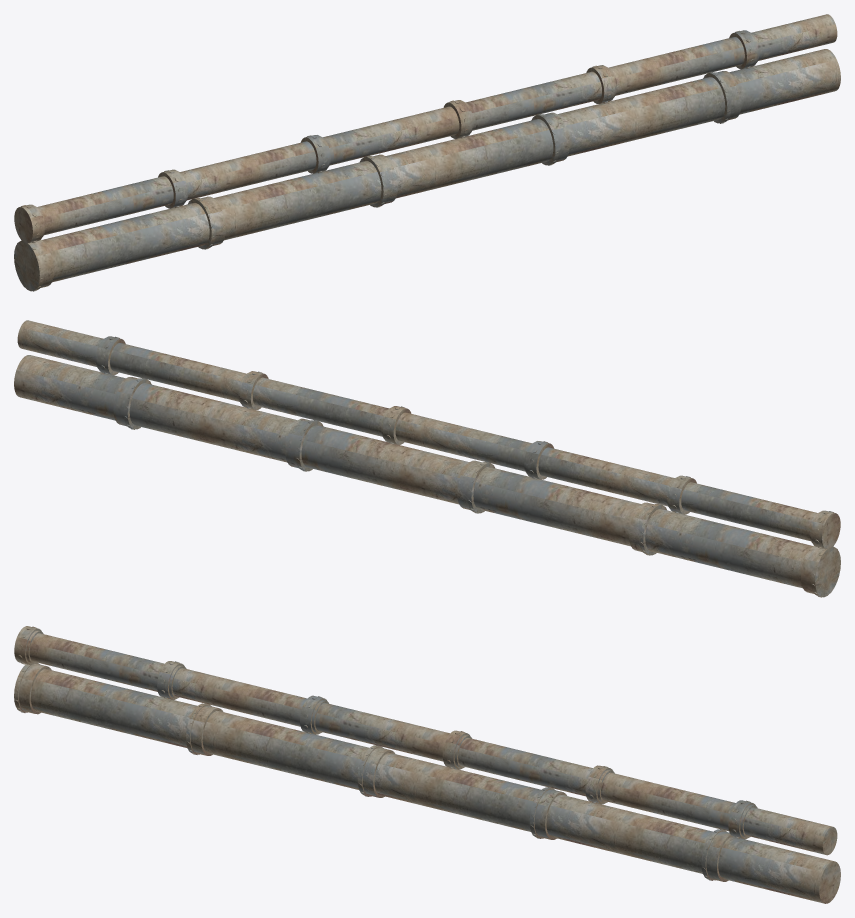
File: pipe-big.FBX
The picture shows the model from 3 angles, top to bottom: view 1: azimuth 30°, elevation 25°; view 2: azimuth 150°, elevation 25°; view 3: azimuth 330°, elevation 25°; orthographic projection.
Visible parts, largest first — view 1: two_big_pipes; view 2: two_big_pipes; view 3: two_big_pipes.
Part boxes in pixels (bbox=[...]): two_big_pipes: bbox=[14, 14, 840, 291]; two_big_pipes: bbox=[14, 320, 840, 597]; two_big_pipes: bbox=[14, 626, 840, 903].
Bounding box in the file's own units: 129 × 7.22 × 12.65.
